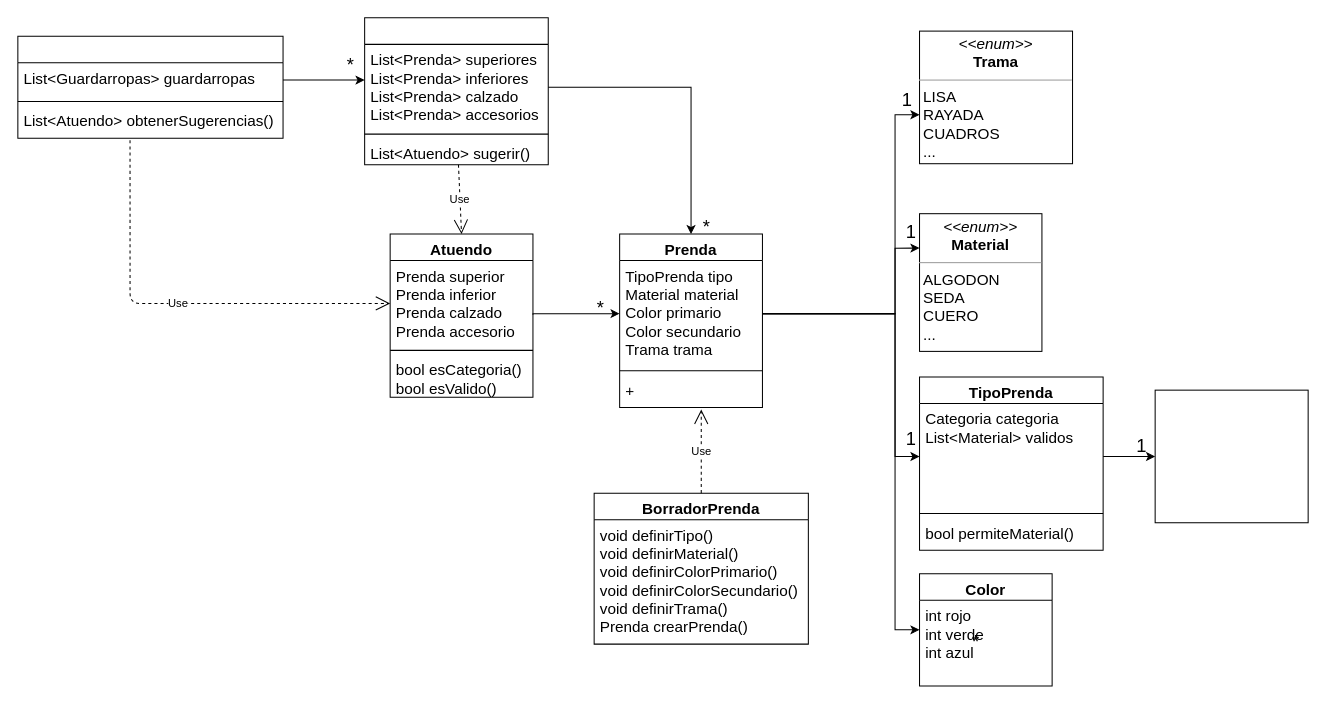
This 1326x707 diagram has some shape labels left out. Each missing label, with the box of its shape:
<<enum>> Categoria PARTE_SUPERIOR CALZADO PARTE_INFERIOR ACCESORIOS: (1154, 389, 1308, 523)
Guardarropas: (364, 17, 548, 165)
Usuario: (17, 35, 283, 138)
